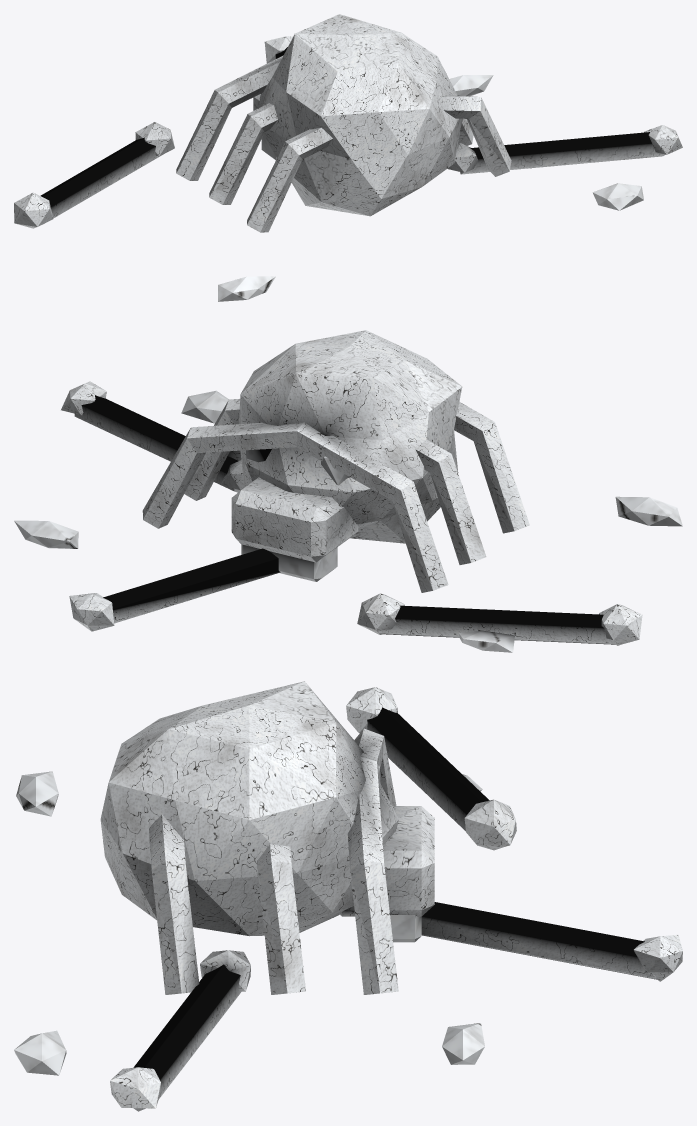
The picture shows the model from 3 angles, top to bottom: view 1: azimuth 30°, elevation 25°; view 2: azimuth 150°, elevation 25°; view 3: azimuth 270°, elevation 25°; orthographic projection. The views are drawn at different scales.
Visible parts, largest first — view 1: bones_M_bone, bones_M_plaster; view 2: bones_M_bone, bones_M_plaster, bones_M_cavity; view 3: bones_M_bone, bones_M_plaster.
Part boxes in pixels (box(x1,y1,x2,y2)): bones_M_bone: box(14, 14, 682, 232); bones_M_plaster: box(218, 75, 643, 301); bones_M_bone: box(61, 330, 642, 645); bones_M_plaster: box(14, 390, 682, 652); bones_M_cavity: box(246, 449, 349, 485); bones_M_bone: box(100, 681, 682, 1111); bones_M_plaster: box(14, 771, 484, 1075).
Bounding box in the file's own units: 1.42 × 0.3851 × 1.01.
Materials: 3 (3 with a texture image).
